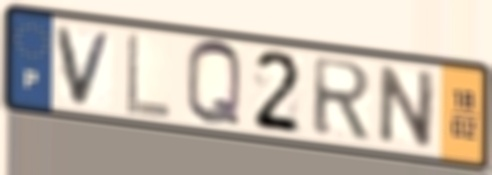2: (248, 48, 307, 137)
L: (123, 29, 174, 121)
N: (374, 62, 440, 151)
Q: (183, 37, 245, 131)
R: (309, 55, 375, 142)
V: (53, 24, 118, 109)
